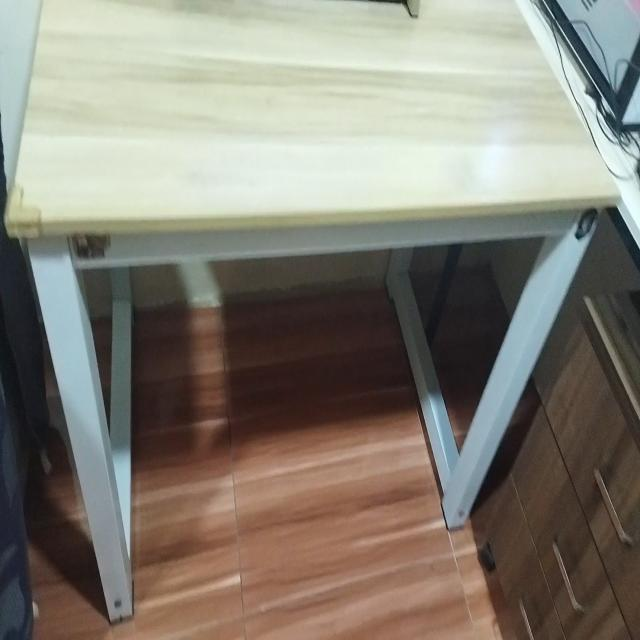table: (0, 0, 602, 581)
